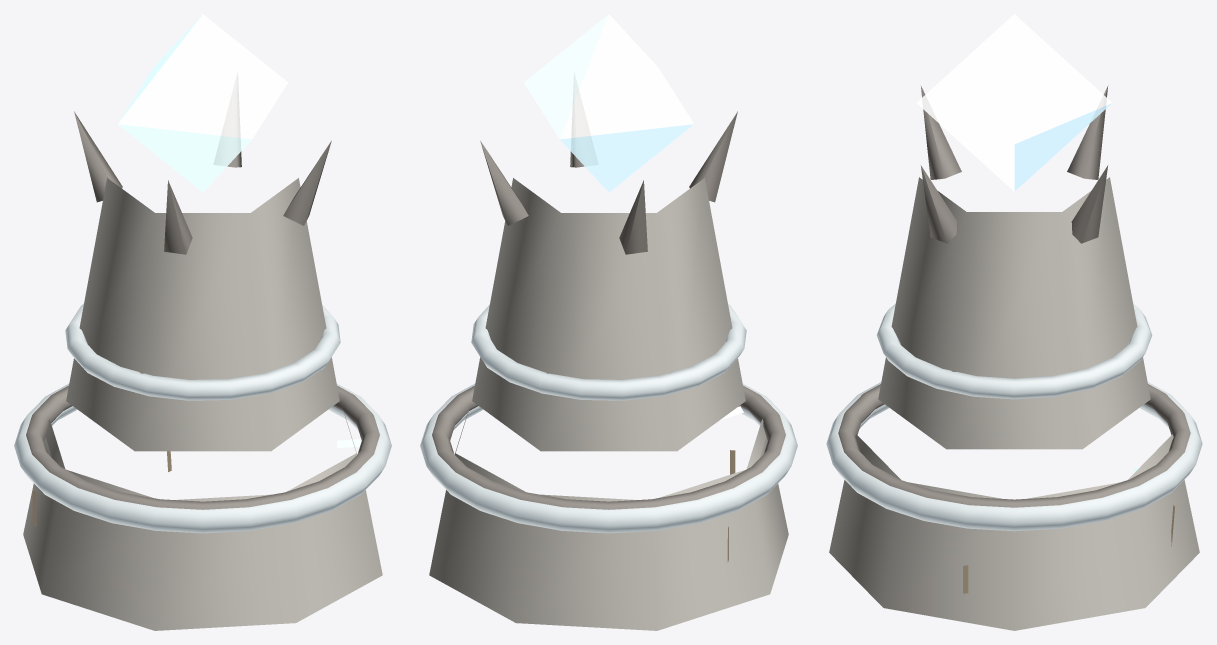
The model's file is tower_slow_2.glb.
3 views of the same model, side by side, from view 1: azimuth 30°, elevation 25°; view 2: azimuth 150°, elevation 25°; view 3: azimuth 270°, elevation 25° (orthographic).
Visible parts, largest first — view 1: turret, base; view 2: turret, base; view 3: turret, base.
Part boxes in pixels (<box>): turret: <box>66,14,339,451</box>; base: <box>14,304,391,630</box>; turret: <box>472,14,745,451</box>; base: <box>420,304,797,630</box>; turret: <box>878,14,1150,449</box>; base: <box>826,304,1202,630</box>.
Size of the model in its own units: 2.76 by 4.36 by 2.76.
